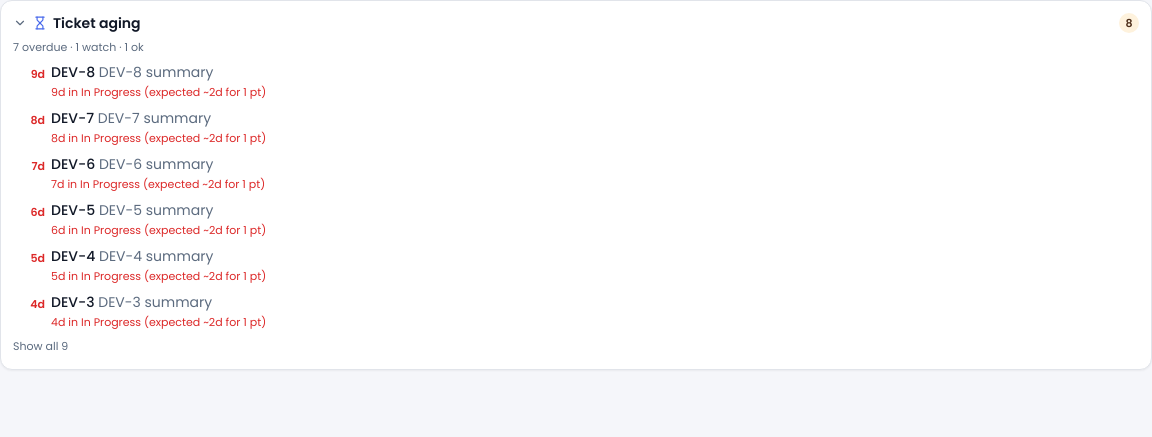
it: AgingCard (v1.58) › expands to show all entries and flips to 'Show less'
This screenshot has width=1152, height=437.
What coordinates should you click on to do the following:
click the button "Show all 9"
I would click on:
 (41, 346)
Its box is [13,338,68,354].
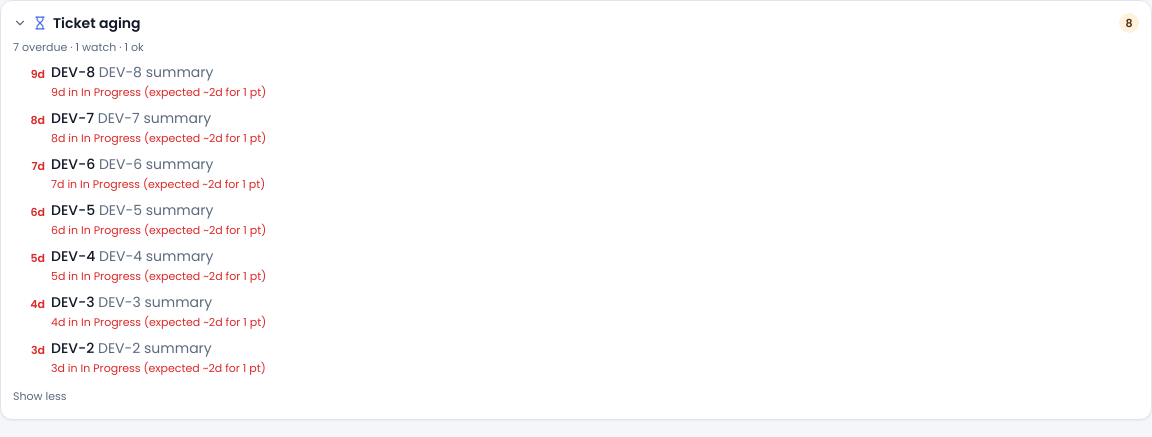
Expected: the button "Show less" is expanded, [13,388,66,404]
